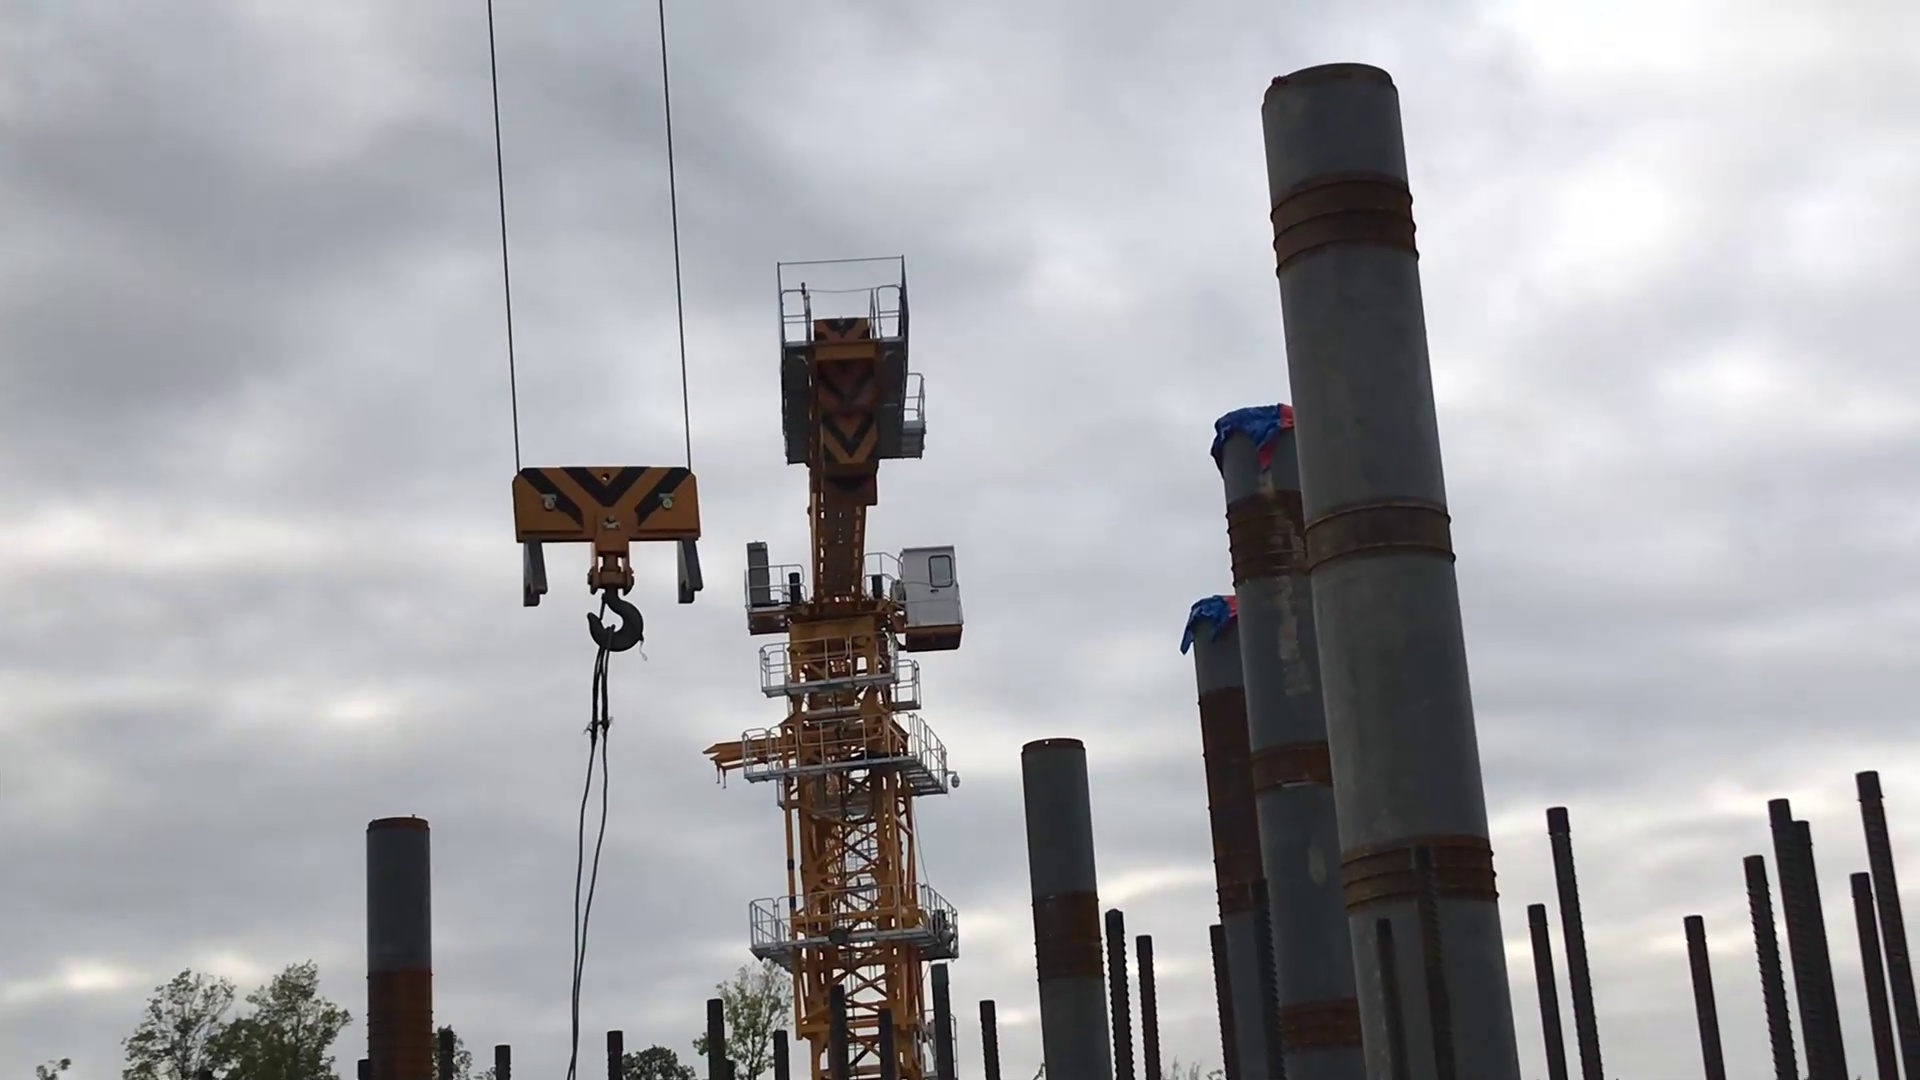hook: (497, 452, 704, 676)
